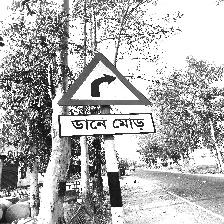Right-turn: (56, 53, 156, 138)
